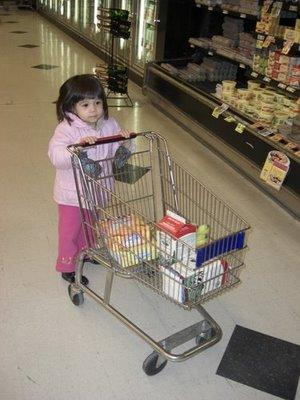person: (47, 72, 136, 289)
